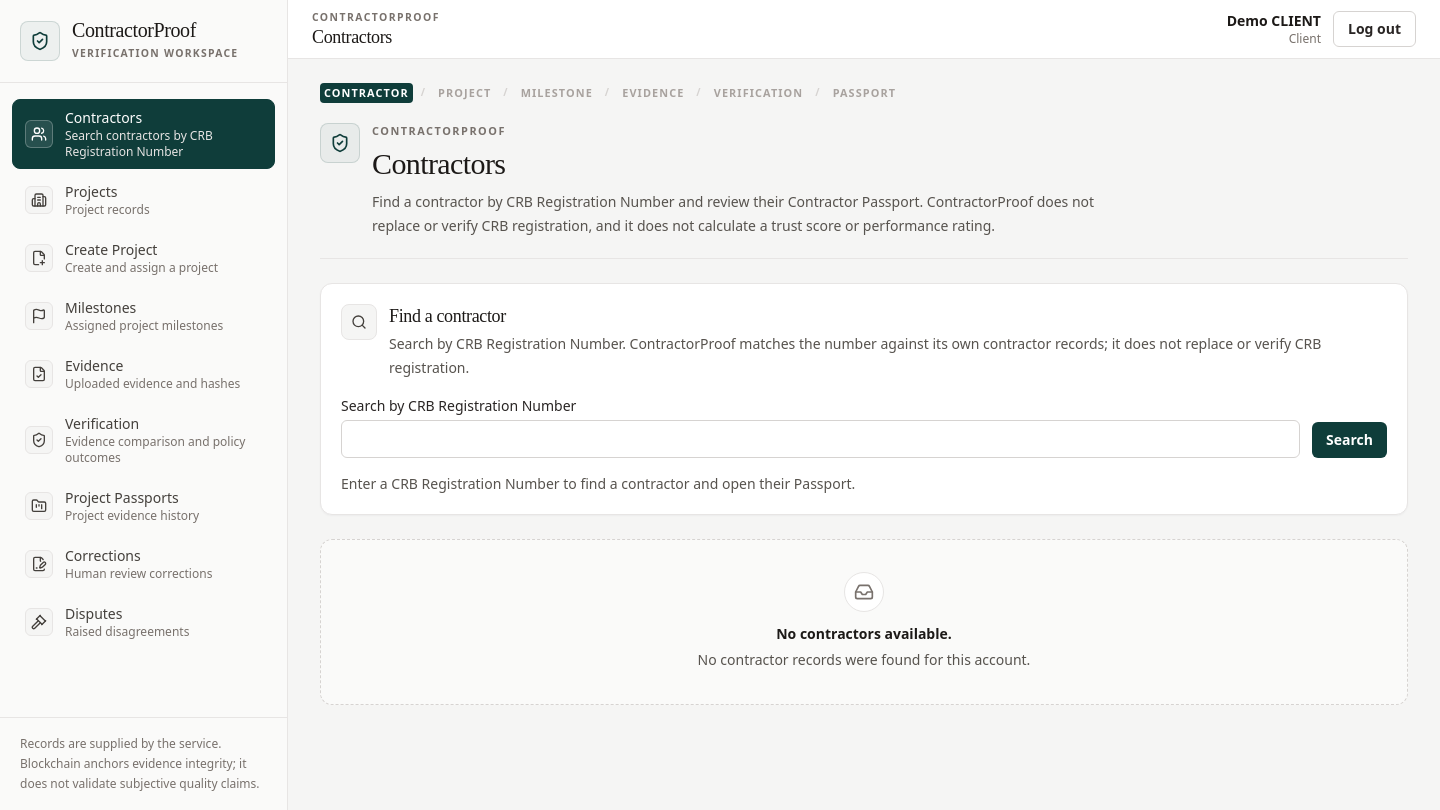
Test: CRB contractor discovery › shows a no-results state for an unregistered CRB number
Type "CRB-999" into the field labelled "Search by CRB Registration Number". click: [821, 440]
box: [341,420,1300,458]
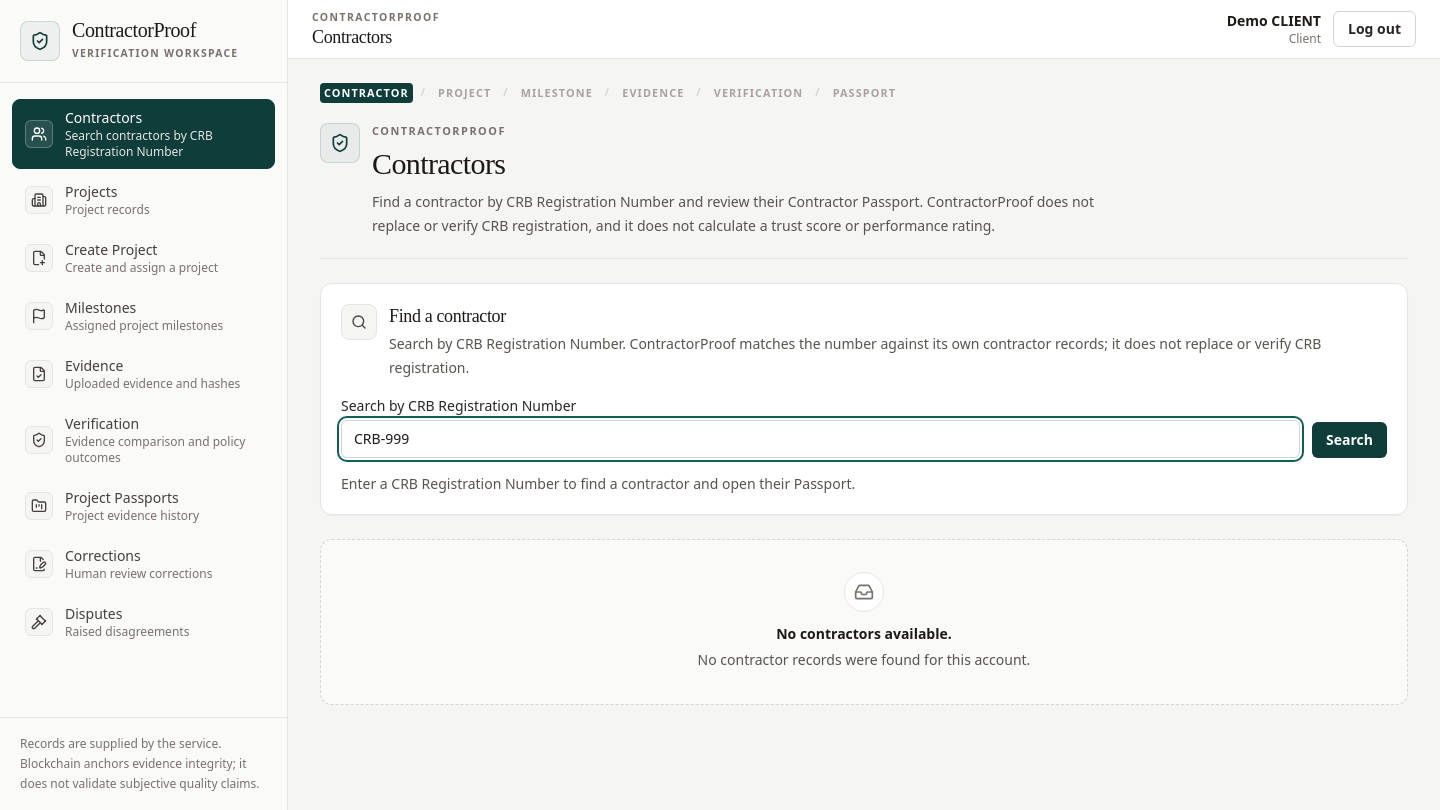
Click the button "Search". click: [1350, 440]
box: [1312,422,1387,458]
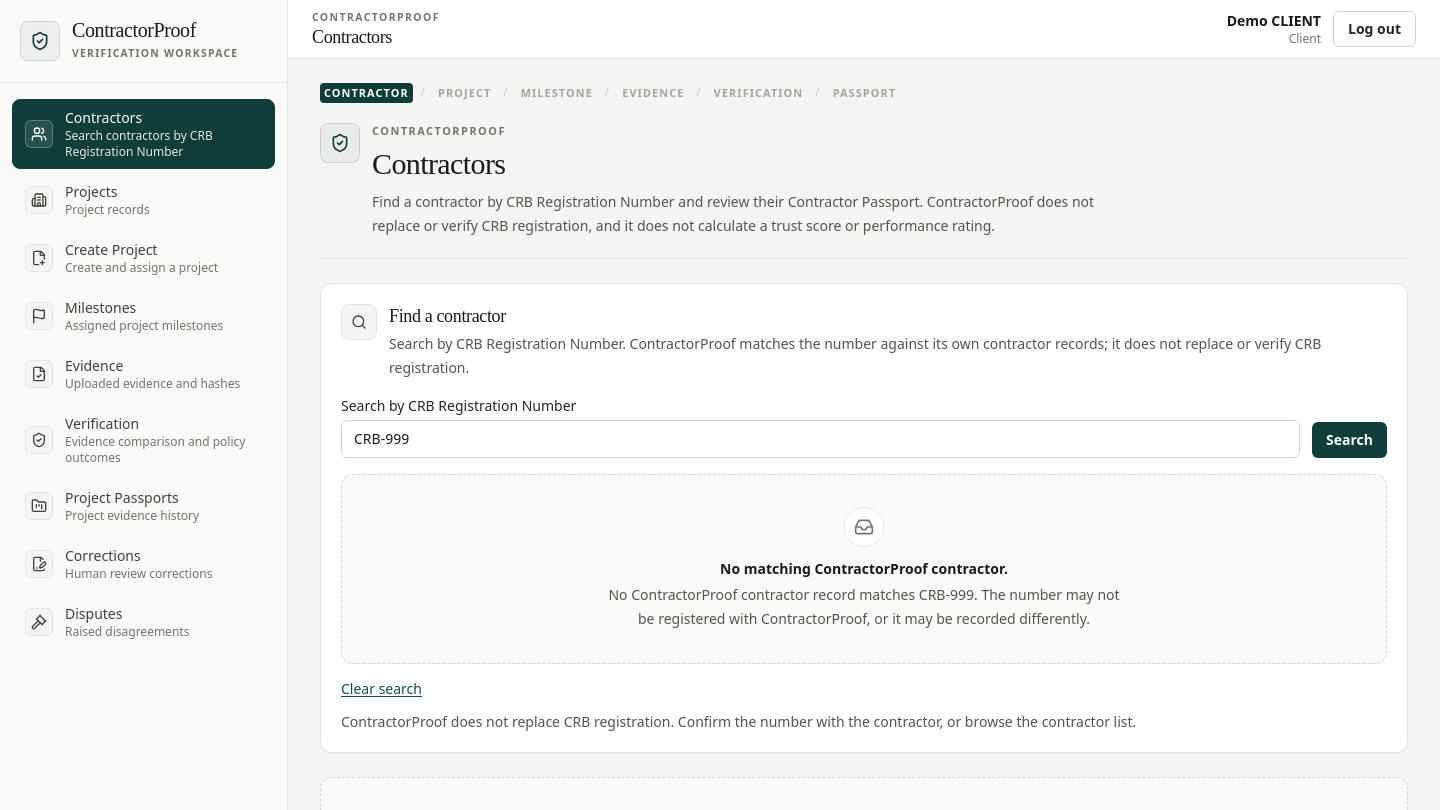
Expected: the text "No matching ContractorProof contractor." is shown, [720,560,1008,578]
